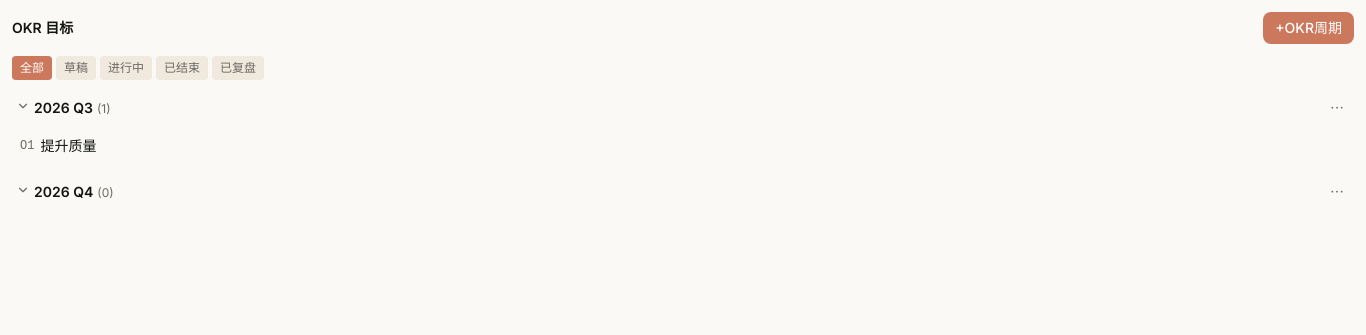
Scenario: [024] OKRDirectory 二级树 › 空周期显示且 ⋯ 含 添加目标/删除周期
Click the button named "周期操作". click: (1337, 192)
box: [1324,180,1350,204]
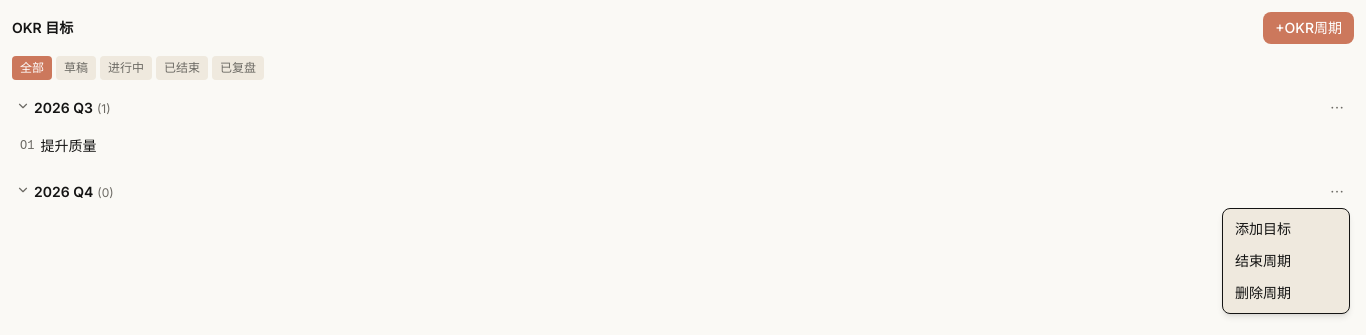
Now the menu item "添加目标" is shown, box [1235,220,1291,237]
Now the menu item "删除周期" is shown, box [1235,284,1291,301]
